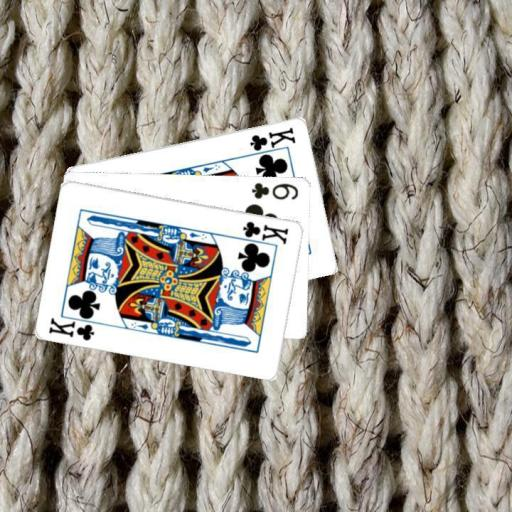card-corner: (46, 310, 104, 342), (233, 217, 290, 249), (245, 124, 297, 158), (249, 178, 300, 202)
